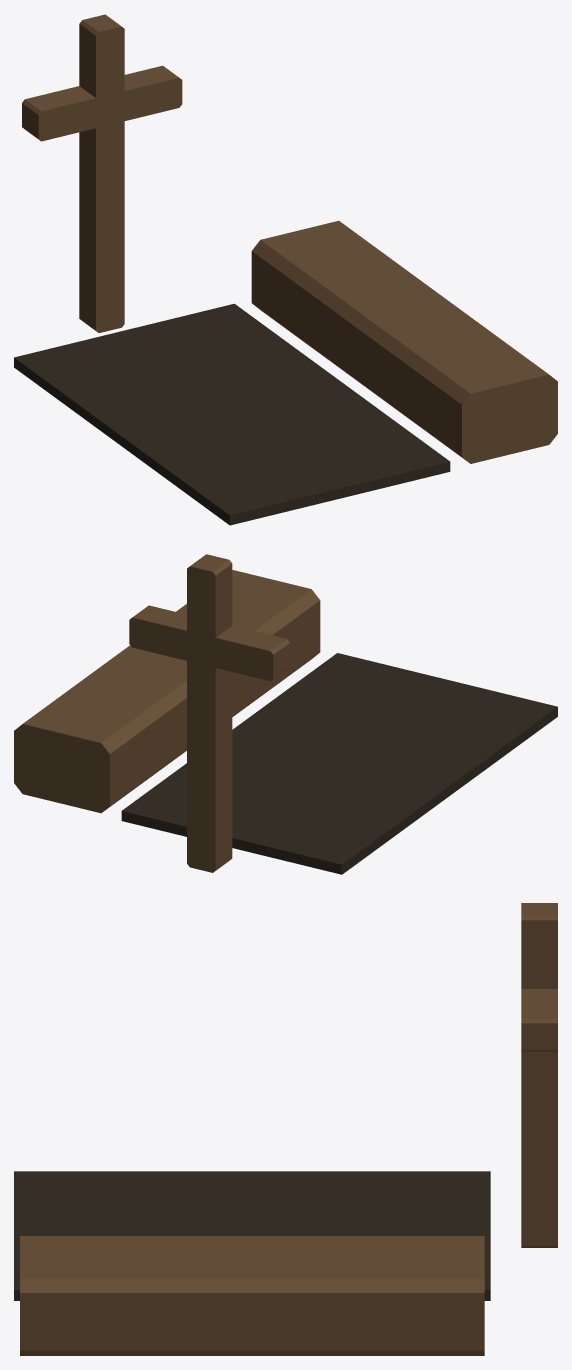
File: Grave.gltf
The picture shows the model from 3 angles, top to bottom: view 1: azimuth 30°, elevation 25°; view 2: azimuth 150°, elevation 25°; view 3: azimuth 270°, elevation 25°; orthographic projection. The views are drawn at different scales.
Visible parts, largest first — view 1: Pit, Marker; view 2: Pit, Marker; view 3: Pit, Marker.
Part boxes in pixels (box(x1,y1,x2,y2)): Pit: box(14, 220, 557, 525); Marker: box(22, 14, 182, 332); Pit: box(14, 570, 557, 874); Marker: box(129, 554, 289, 872); Pit: box(14, 1171, 490, 1355); Marker: box(521, 903, 557, 1247).
Size of the model in its own units: 0.69 by 0.6 by 0.89.
